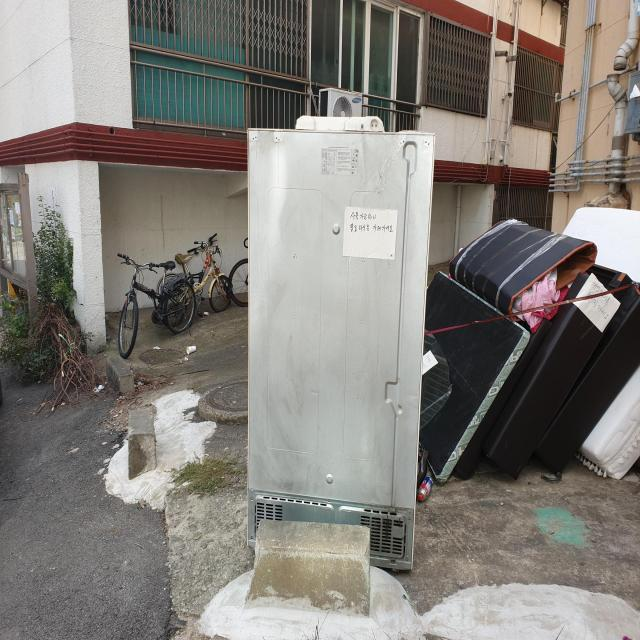refrigerator: (244, 115, 436, 560)
